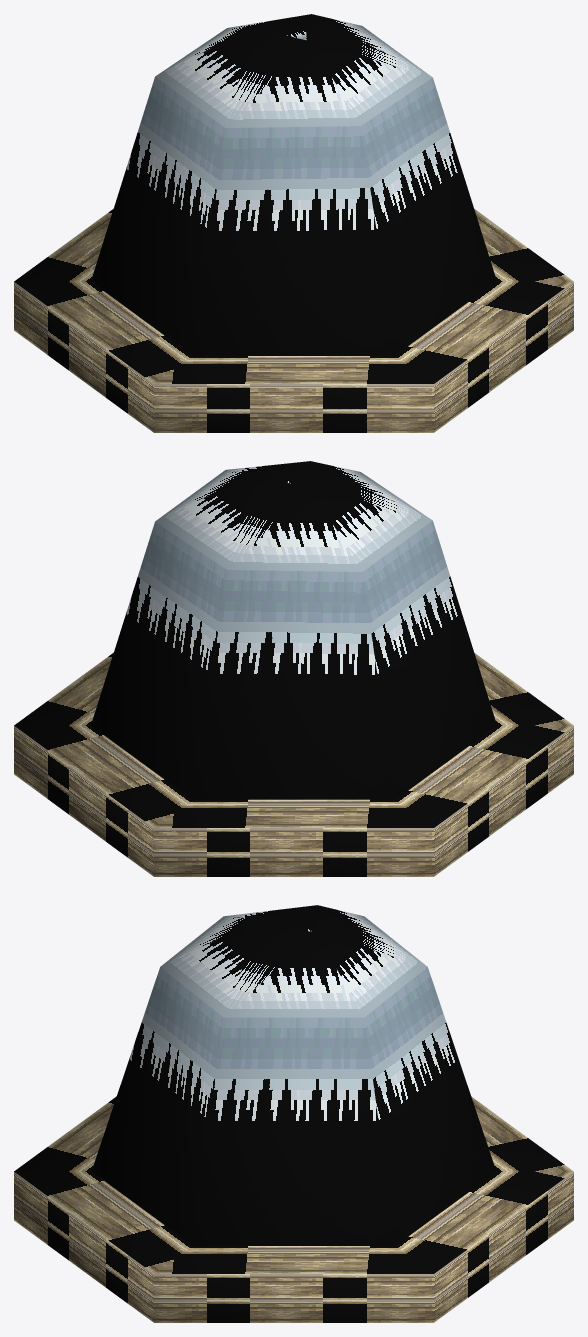
The picture shows the model from 3 angles, top to bottom: view 1: azimuth 30°, elevation 25°; view 2: azimuth 150°, elevation 25°; view 3: azimuth 270°, elevation 25°; orthographic projection.
Parts seen in each view (by area): view 1: 3513kg_sh2_24; view 2: 3513kg_sh2_24; view 3: 3513kg_sh2_24.
Part boxes in pixels (x1,y1,x2,y2): 3513kg_sh2_24: [14, 14, 573, 432]; 3513kg_sh2_24: [14, 461, 573, 876]; 3513kg_sh2_24: [14, 905, 573, 1322].
Bounding box in the file's own units: 1.72 × 1.18 × 1.99.
4 materials, 4 textured.
